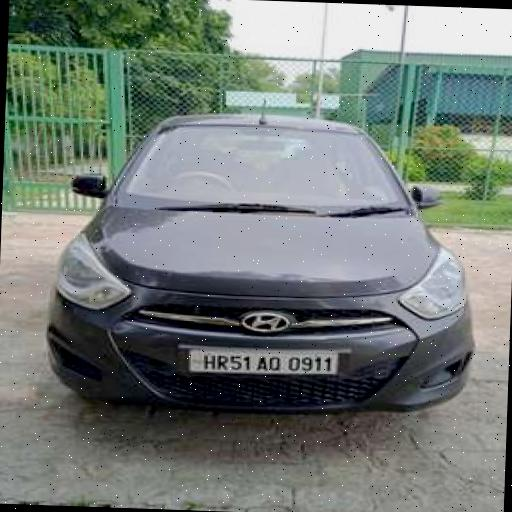license_plate`: (184, 342, 334, 375)
